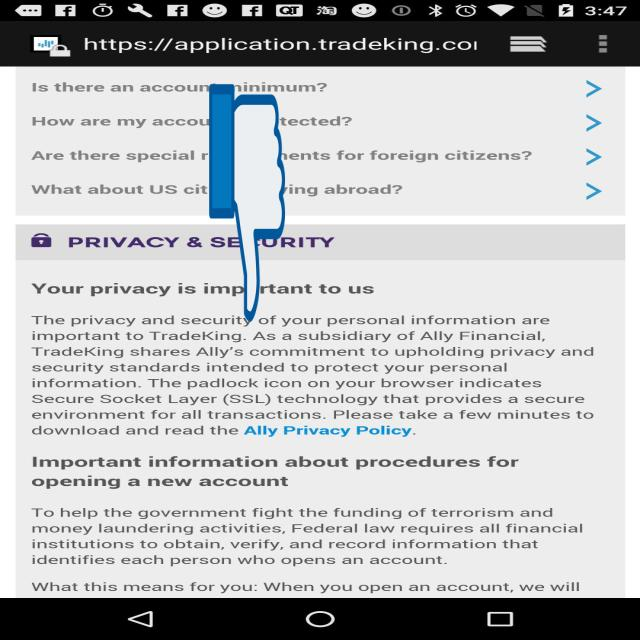obstruction: (209, 79, 285, 327)
